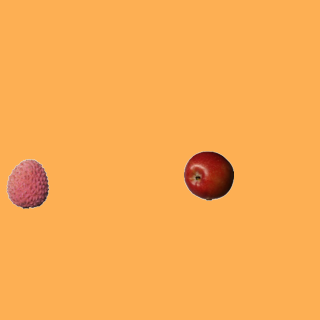Apple Braeburn: (183, 150, 233, 200)
Lychee: (2, 158, 52, 208)
